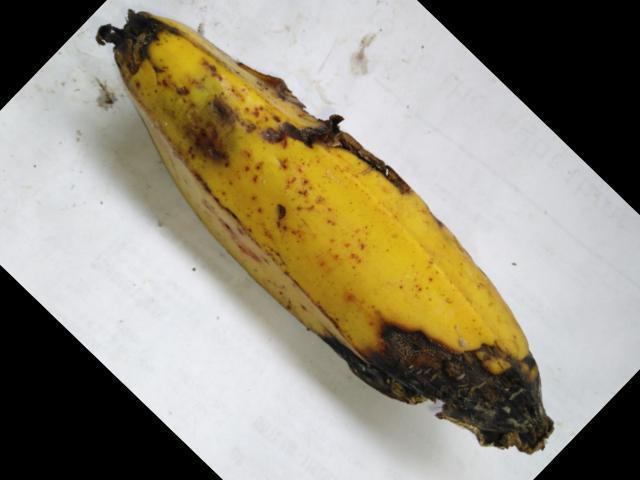rotten: (309, 300, 556, 479), (218, 29, 447, 213), (77, 0, 181, 87), (167, 82, 253, 169)
